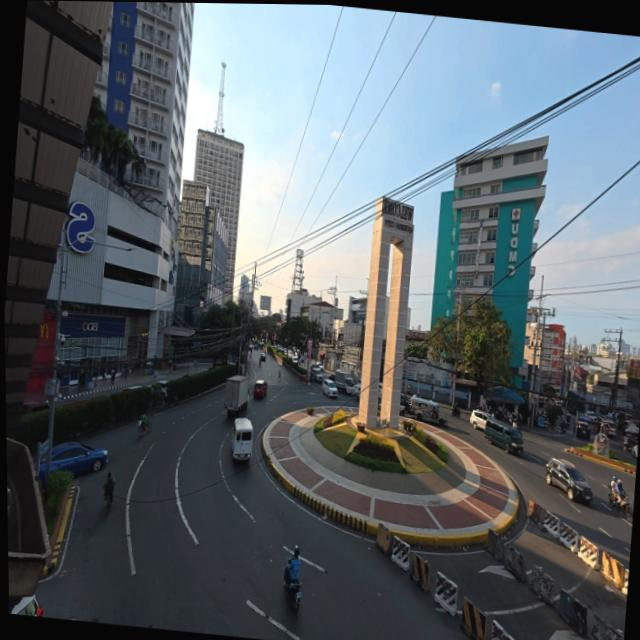Jeepneys: (408, 396, 445, 425)
car: (545, 459, 592, 503), (51, 442, 107, 475), (11, 595, 42, 615), (469, 410, 488, 430), (21, 400, 47, 414), (573, 420, 590, 440), (152, 379, 168, 398), (322, 380, 337, 398), (600, 421, 615, 438), (399, 394, 410, 416), (253, 381, 267, 398), (309, 370, 322, 383), (120, 385, 141, 393), (577, 413, 591, 423), (584, 411, 596, 421), (353, 383, 360, 399), (377, 383, 382, 400), (312, 363, 322, 371), (631, 445, 637, 457), (259, 352, 265, 361), (298, 356, 304, 364), (290, 355, 296, 363), (248, 343, 252, 350)
motorcycle: (282, 558, 300, 611), (608, 487, 633, 516), (450, 405, 460, 418)
trucks: (224, 375, 248, 416), (332, 371, 354, 394)
vans: (484, 418, 522, 453), (232, 418, 252, 460)
